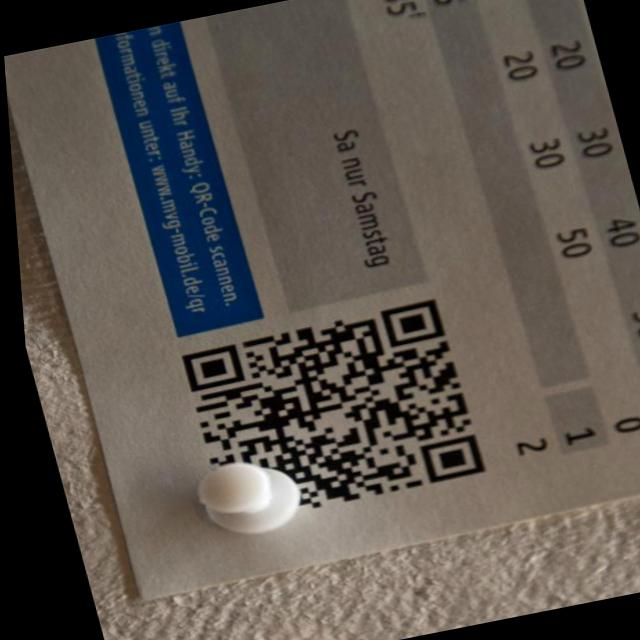qrcode: (173, 299, 483, 525)
